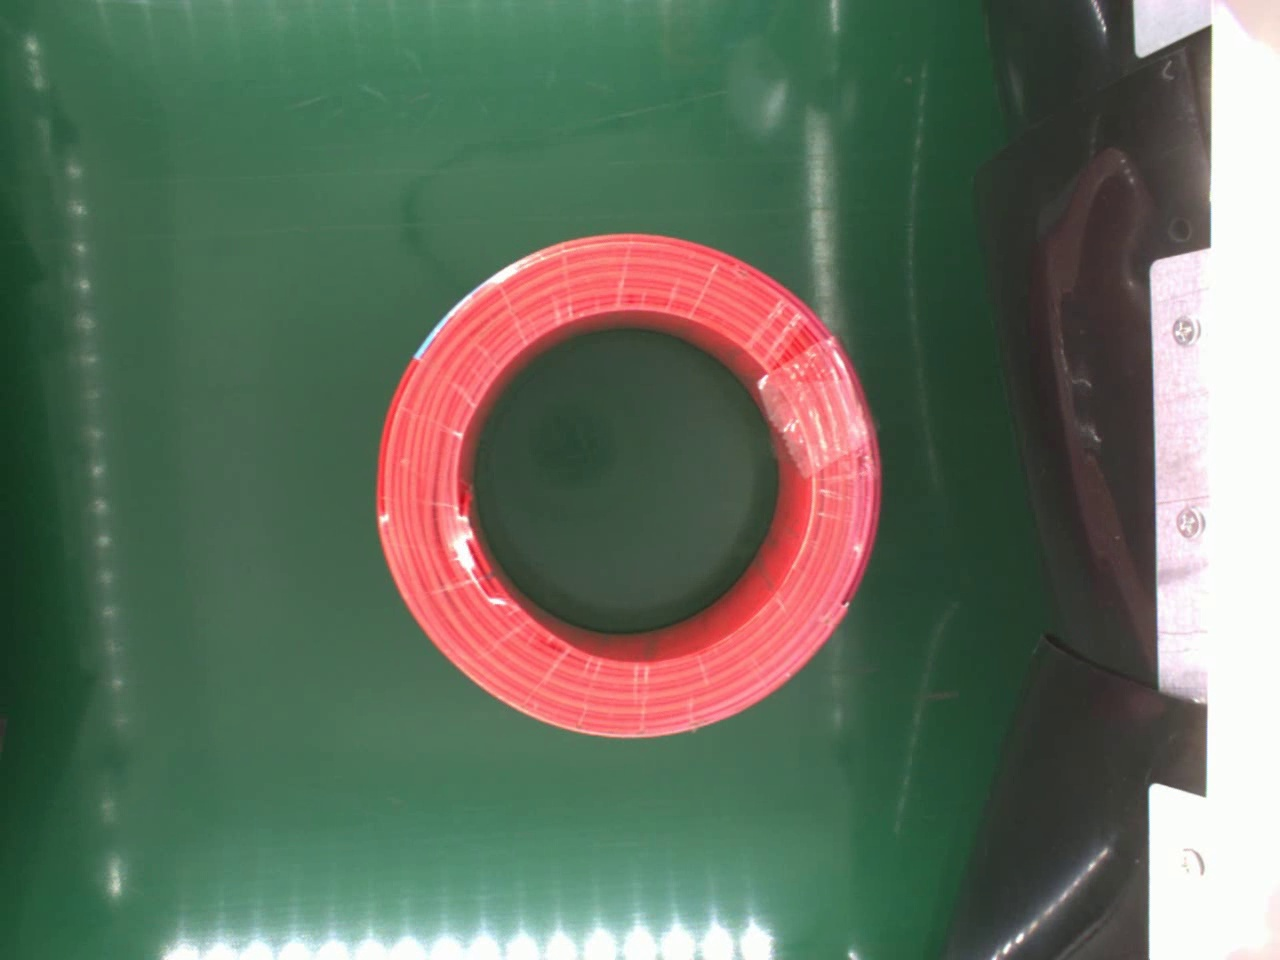red: (375, 231, 887, 747)
